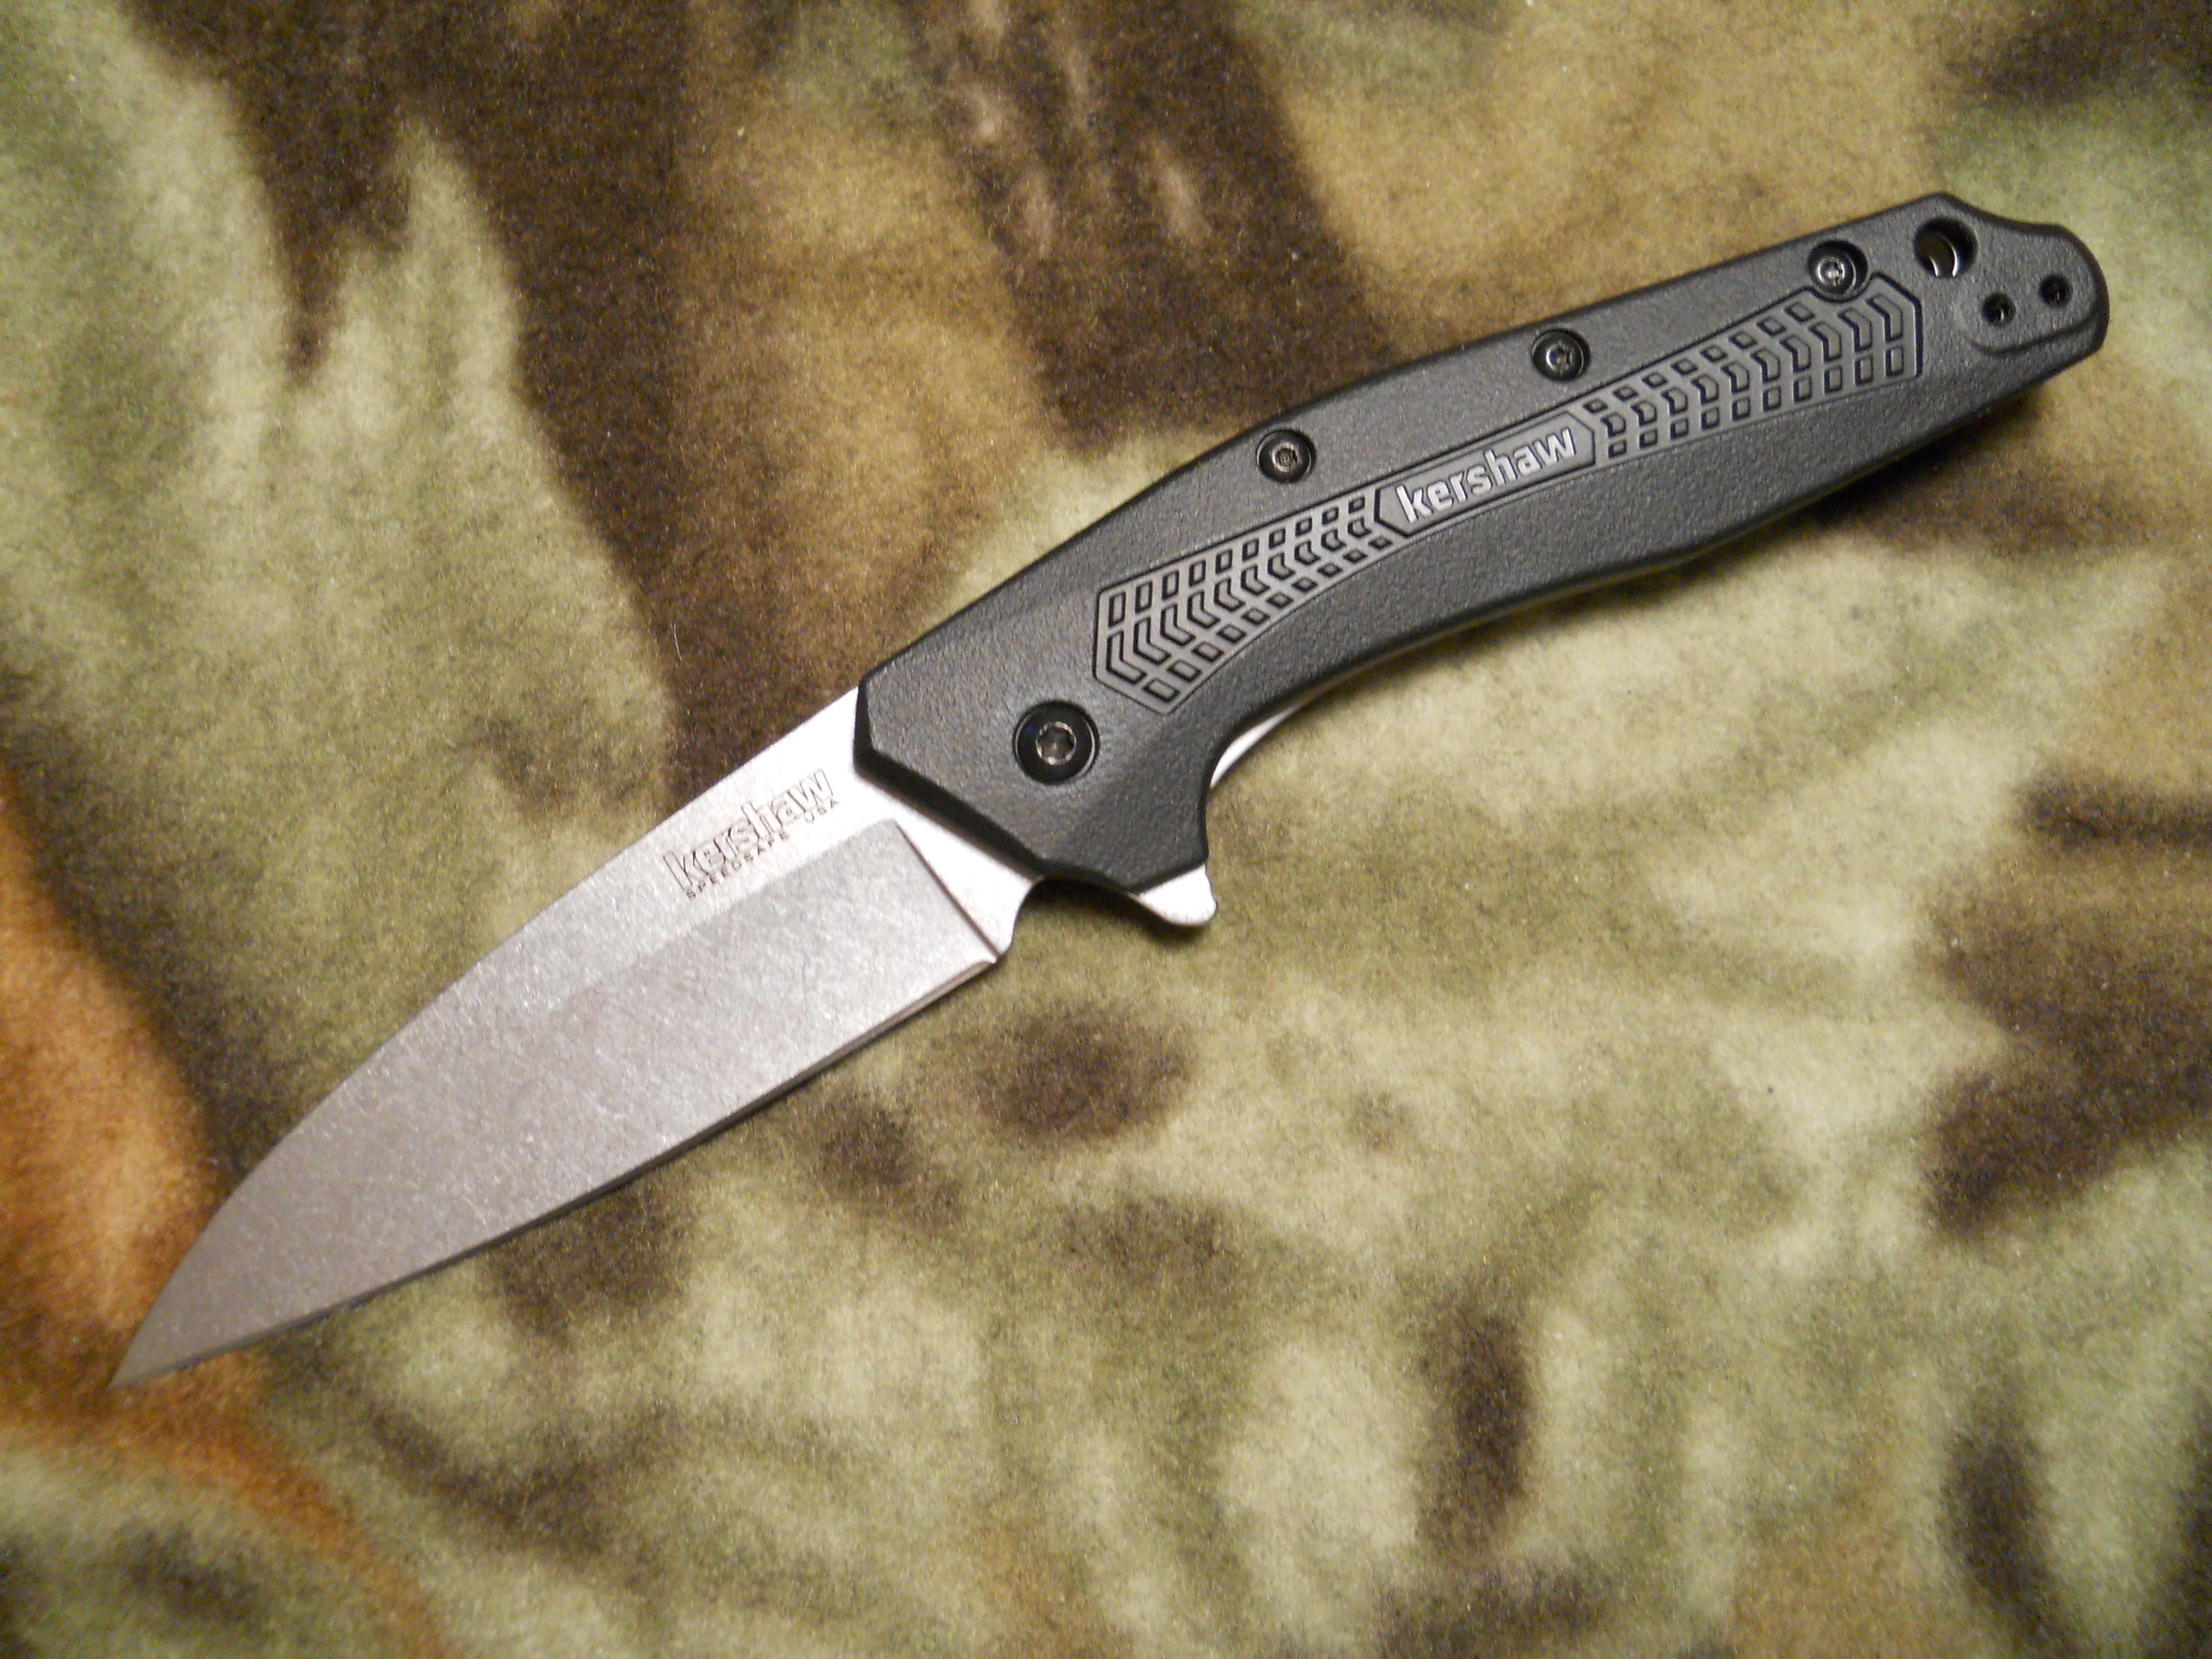knife: (75, 626, 1083, 1425)
